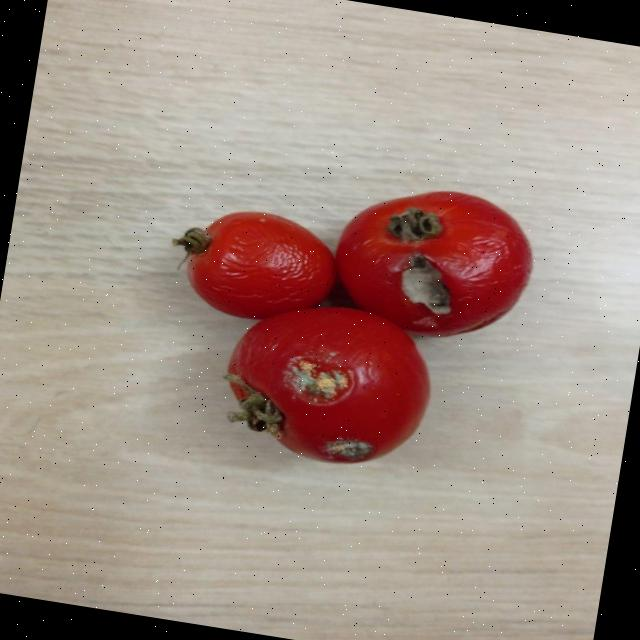Rotten: (217, 291, 442, 476), (326, 176, 542, 350)
overripe: (183, 203, 344, 330)
